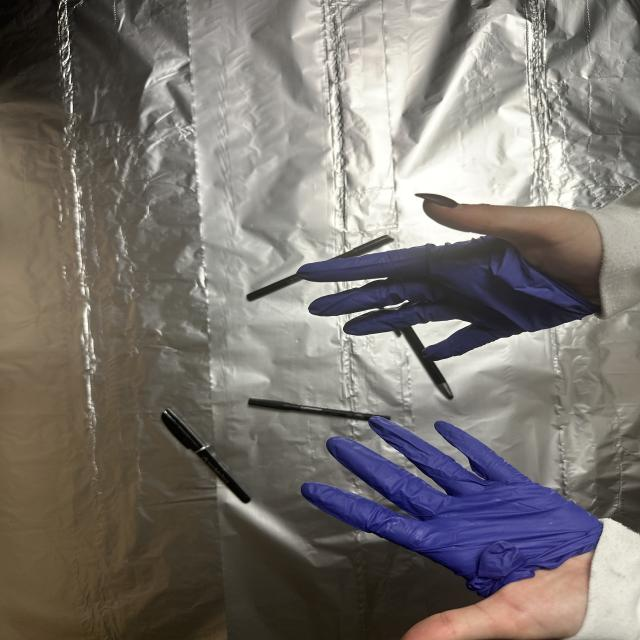glove_partial: (298, 412, 610, 640), (296, 190, 608, 360)
